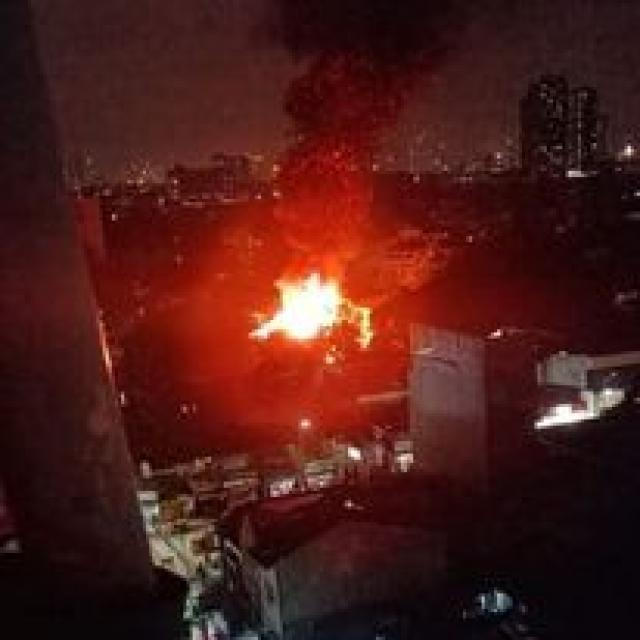Fire: (256, 268, 374, 350)
Smoke: (237, 0, 466, 256)
